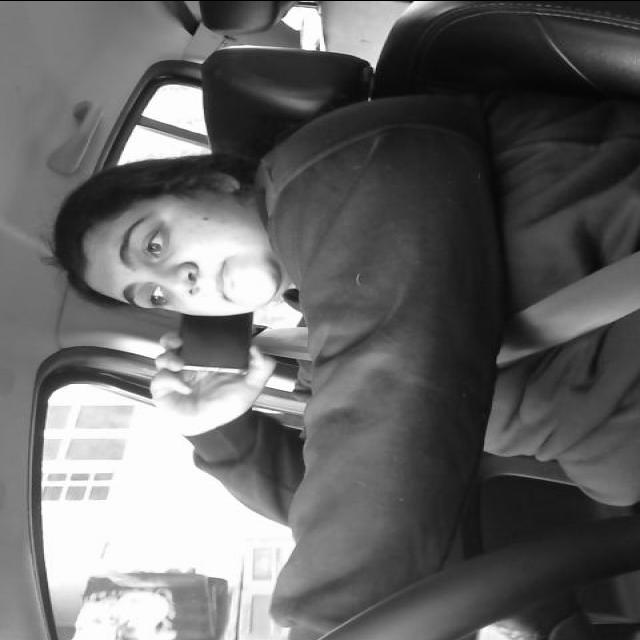mobile use: (168, 316, 250, 379)
